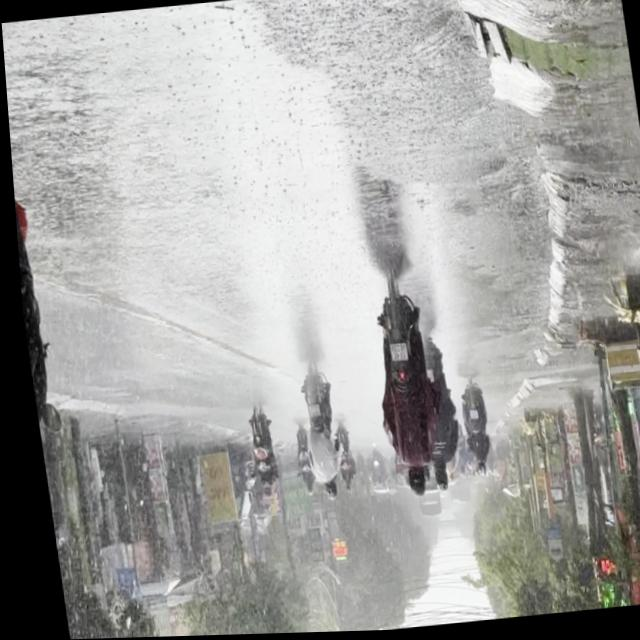helmet: (397, 469, 419, 501)
licenseplate: (356, 279, 440, 505)
nohelmet: (383, 345, 401, 364)
